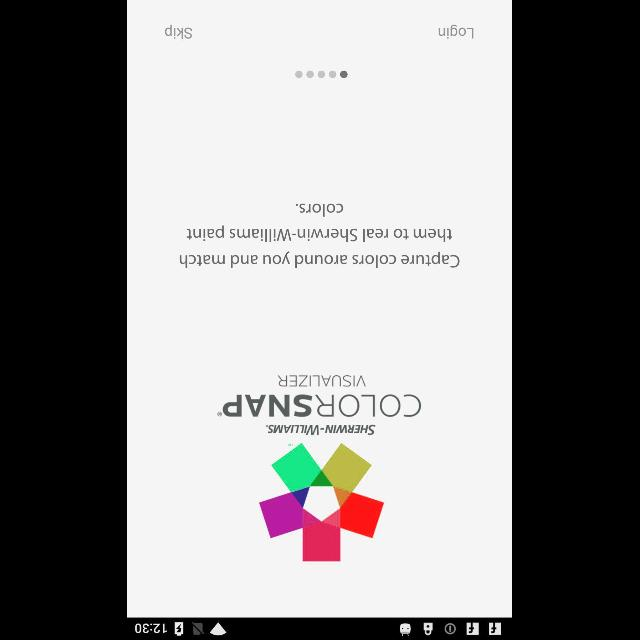image: (218, 374, 422, 562)
pageindicator: (296, 70, 348, 78)
text: (180, 202, 462, 268), (440, 24, 474, 40), (165, 24, 193, 40)
uppertaskbar: (128, 617, 512, 639)
